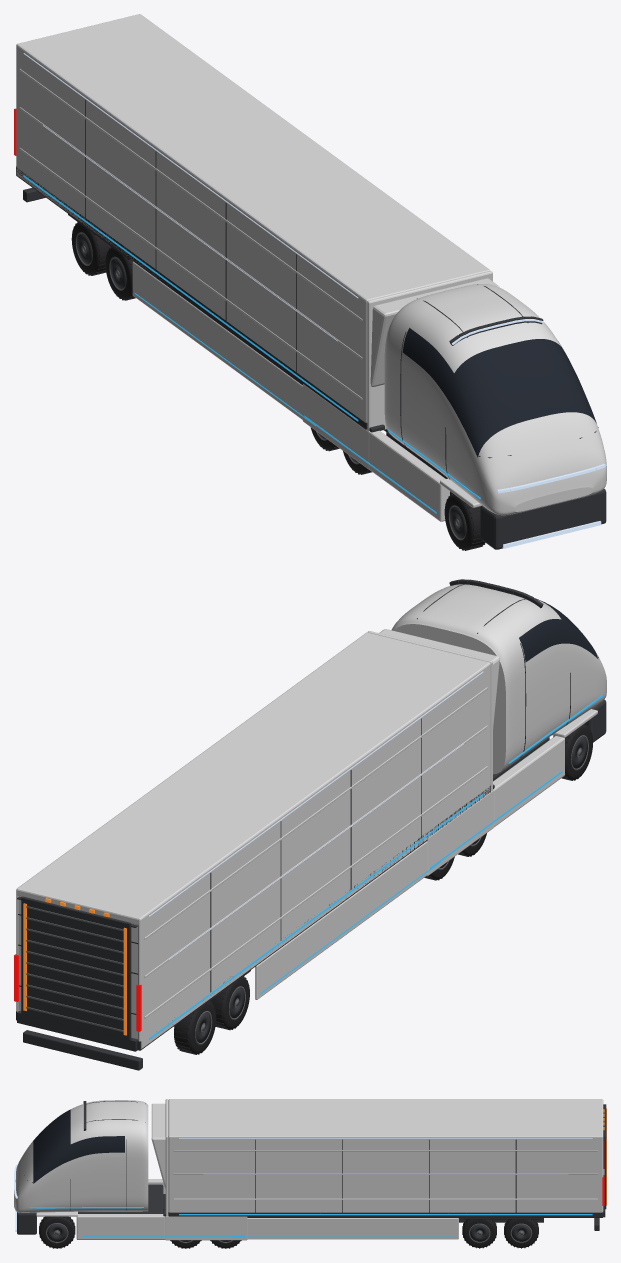
The model's file is rig_phone.glb.
The picture shows the model from 3 angles, top to bottom: view 1: azimuth 30°, elevation 25°; view 2: azimuth 150°, elevation 25°; view 3: azimuth 270°, elevation 25°; orthographic projection. The views are drawn at different scales.
Parts seen in each view (by area): view 1: trailer_body, cab_body, cab_wheel_FL_mesh, trailer_wheel_L2_mesh, trailer_wheel_L1_mesh; view 2: trailer_body, cab_body, ramp_mesh, trailer_wheel_L2_mesh, trailer_wheel_L1_mesh, cab_wheel_FL_mesh, trailer_door_L_mesh; view 3: trailer_body, cab_body, cab_wheel_FR_mesh, trailer_wheel_R2_mesh, trailer_wheel_R1_mesh, ramp_mesh.
Part boxes in pixels (x1,y1,x2,y2): trailer_body: (14, 14, 499, 431); cab_body: (302, 284, 606, 549); cab_wheel_FL_mesh: (444, 493, 485, 550); trailer_wheel_L2_mesh: (71, 222, 110, 275); trailer_wheel_L1_mesh: (105, 246, 135, 300); trailer_body: (14, 629, 499, 1070); cab_body: (391, 579, 606, 876); ramp_mesh: (21, 896, 131, 1040); trailer_wheel_L2_mesh: (174, 1001, 216, 1054); trailer_wheel_L1_mesh: (210, 976, 249, 1030); cab_wheel_FL_mesh: (553, 724, 592, 780); trailer_door_L_mesh: (131, 926, 138, 1039); trailer_body: (151, 1099, 605, 1239); cab_body: (14, 1100, 247, 1240); cab_wheel_FR_mesh: (39, 1216, 75, 1248); trailer_wheel_R2_mesh: (504, 1219, 538, 1248); trailer_wheel_R1_mesh: (462, 1219, 496, 1248); ramp_mesh: (604, 1104, 606, 1209).
Bounding box in the file's own units: 2.6 × 3.84 × 17.05.
6 materials, 1 textured.
